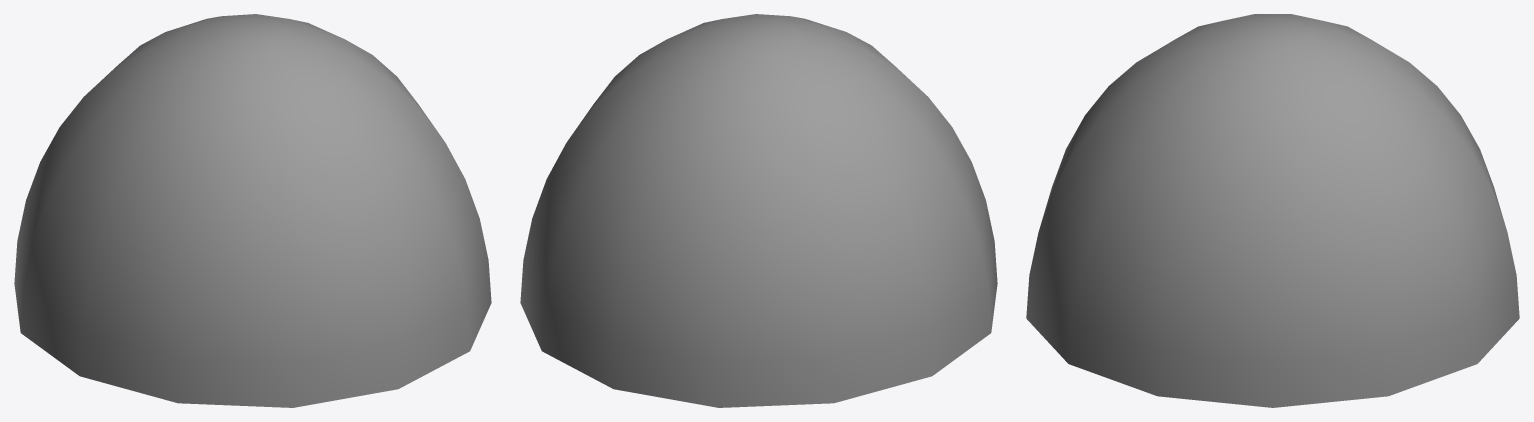
File: Environment_Rock_02.fbx
The picture shows the model from 3 angles, left to right: view 1: azimuth 30°, elevation 25°; view 2: azimuth 150°, elevation 25°; view 3: azimuth 270°, elevation 25°; orthographic projection.
Parts seen in each view (by area): view 1: Environment_Rock_02; view 2: Environment_Rock_02; view 3: Environment_Rock_02.
Part boxes in pixels (x1,y1,x2,y2): Environment_Rock_02: (14,14,491,407); Environment_Rock_02: (520,14,997,407); Environment_Rock_02: (1026,14,1519,407).
Size of the model in its own units: 0.4517 by 0.2892 by 0.4699.
